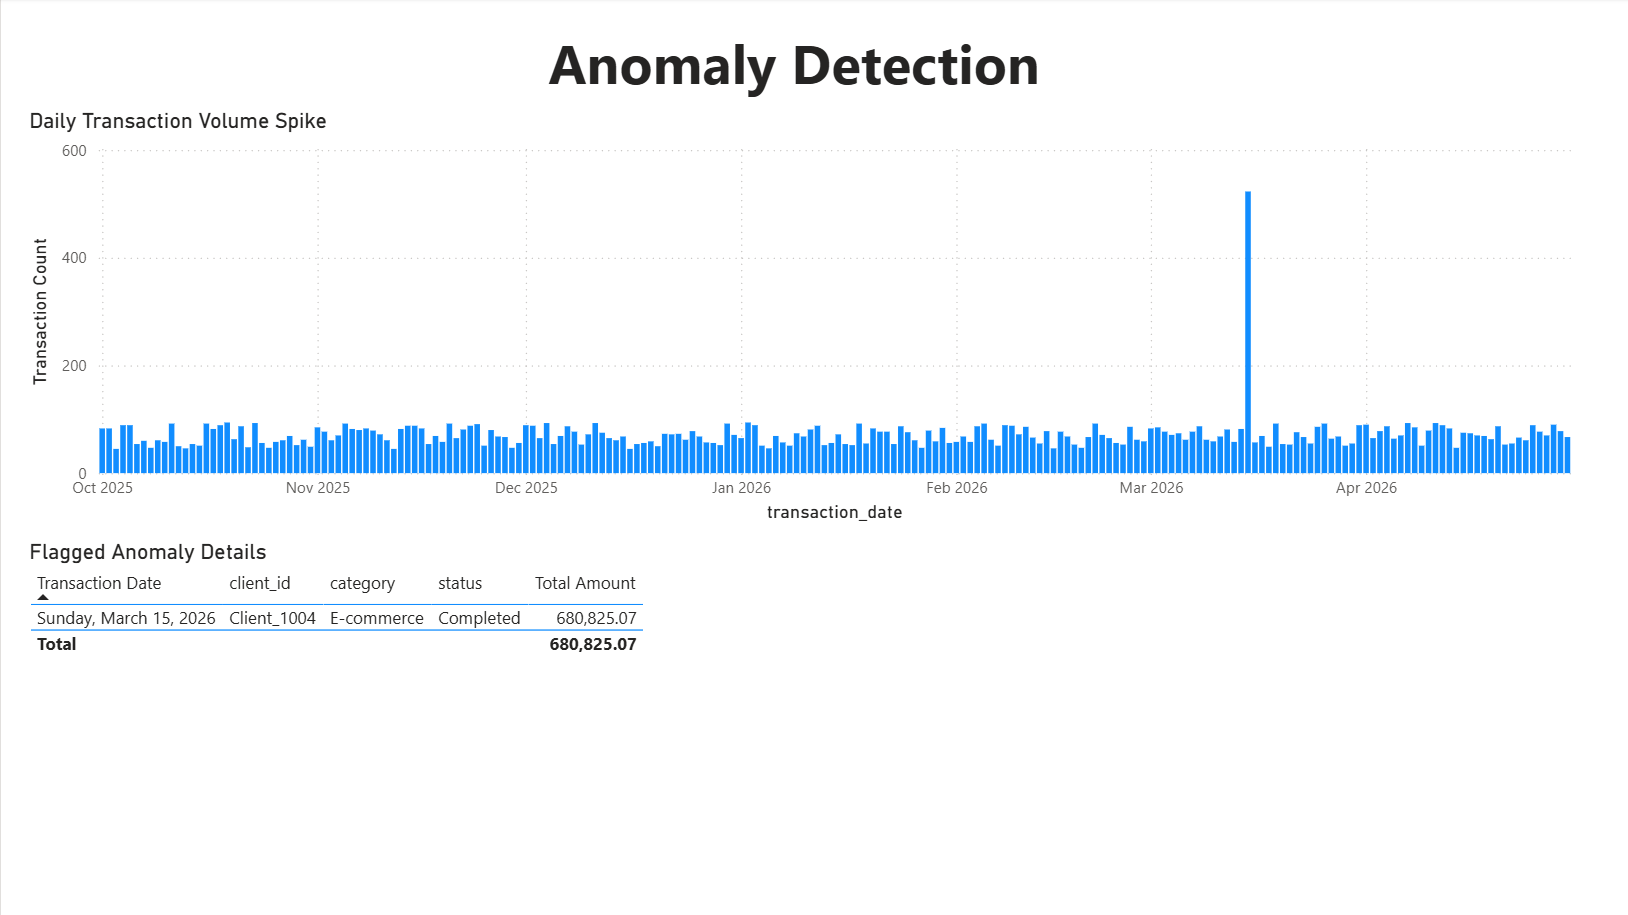

The page's visual inventory and layout, read from the dashboard file:
{"tool":"powerbi","page":{"name":"Anomaly Detection","canvas":[1280,720],"ordinal":1},"visuals":[{"type":"clusteredColumnChart","title":"Daily Transaction Volume Spike","fields":{"Y":["CountNonNull(transactions.transaction_id)"],"Category":["transactions.transaction_date"]},"box":[17.5,86.6,1244,329.7],"z":0},{"type":"tableEx","title":"Flagged Anomaly Details","fields":{"Values":["transactions.transaction_date","transactions.client_id","transactions.category","transactions.status","Sum(transactions.amount)"]},"box":[17.5,425,1244,269.4],"z":1000},{"type":"textbox","box":[100.2,16.5,1044.6,70],"z":1001}]}

Visuals, with their boxes in screenshot pixels (x1, y1, x2, y2), scaled from the page's 1280x720 canvas onto the 1628x915 screenshot:
"Daily Transaction Volume Spike" clusteredColumnChart: x1=22 y1=110 x2=1604 y2=529
"Flagged Anomaly Details" tableEx: x1=22 y1=540 x2=1604 y2=882
textbox: x1=127 y1=21 x2=1456 y2=110
